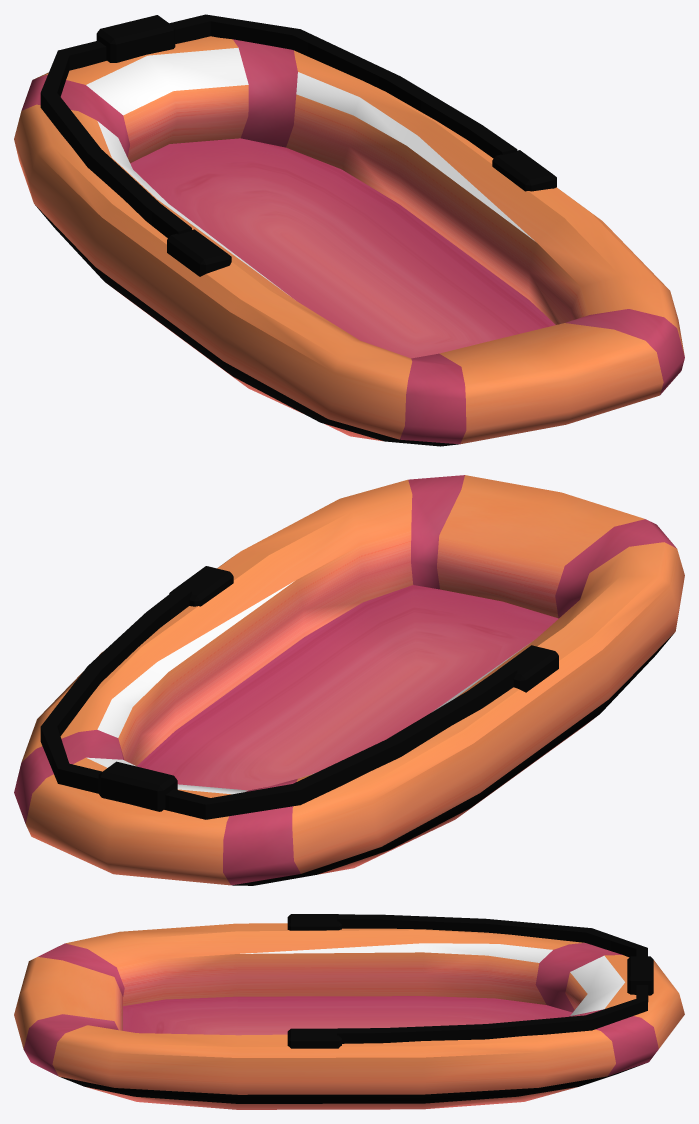
The model's file is Dingy.fbx.
3 views of the same model, one above another, from view 1: azimuth 30°, elevation 25°; view 2: azimuth 150°, elevation 25°; view 3: azimuth 270°, elevation 25° (orthographic). The views are drawn at different scales.
Visible parts, largest first — view 1: Dingy_Test; view 2: Dingy_Test; view 3: Dingy_Test.
Part boxes in pixels (x1,y1,x2,y2): Dingy_Test: (14, 14, 684, 446); Dingy_Test: (14, 475, 684, 885); Dingy_Test: (14, 914, 684, 1109).
Size of the model in its own units: 165 by 54.47 by 344.
